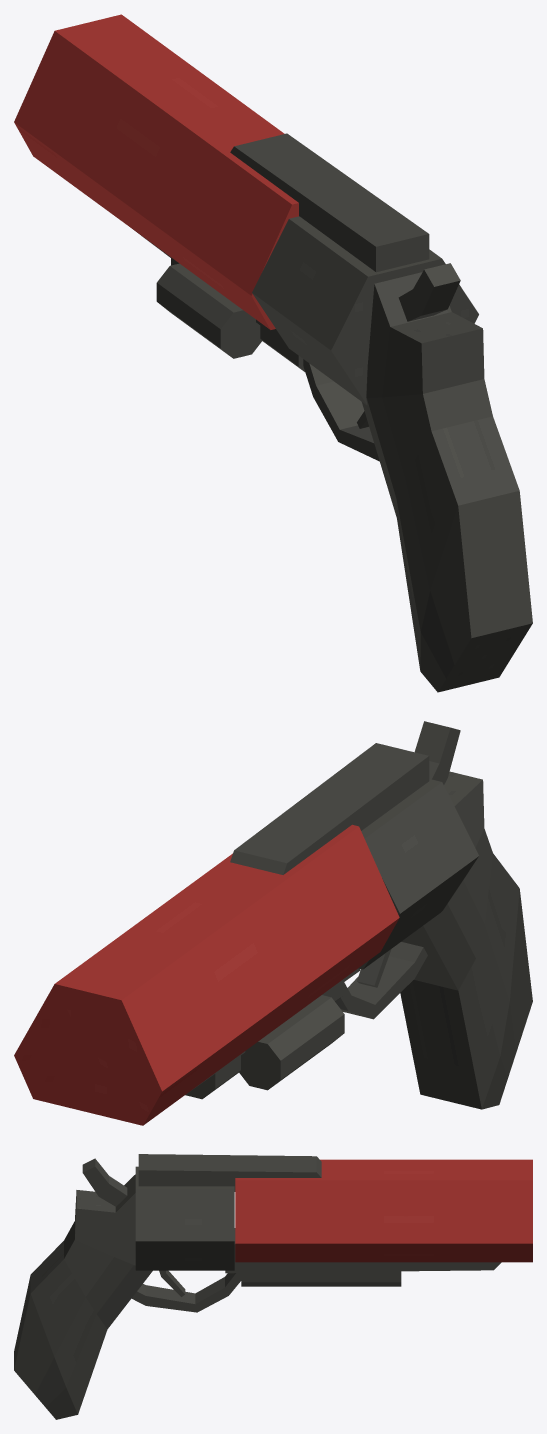
File: eyasluna.obj
3 views of the same model, one above another, from view 1: azimuth 30°, elevation 25°; view 2: azimuth 150°, elevation 25°; view 3: azimuth 270°, elevation 25° (orthographic). The views are drawn at different scales.
Visible parts, largest first — view 1: eyasluna; view 2: eyasluna; view 3: eyasluna.
Boxes of the visible parts, left/top/right/bottom form: eyasluna: left=14, top=14, right=532, bottom=692; eyasluna: left=14, top=721, right=532, bottom=1125; eyasluna: left=14, top=1154, right=532, bottom=1419.
Size of the model in its own units: 0.0952 by 0.2433 by 0.4608.
2 materials, 2 textured.
